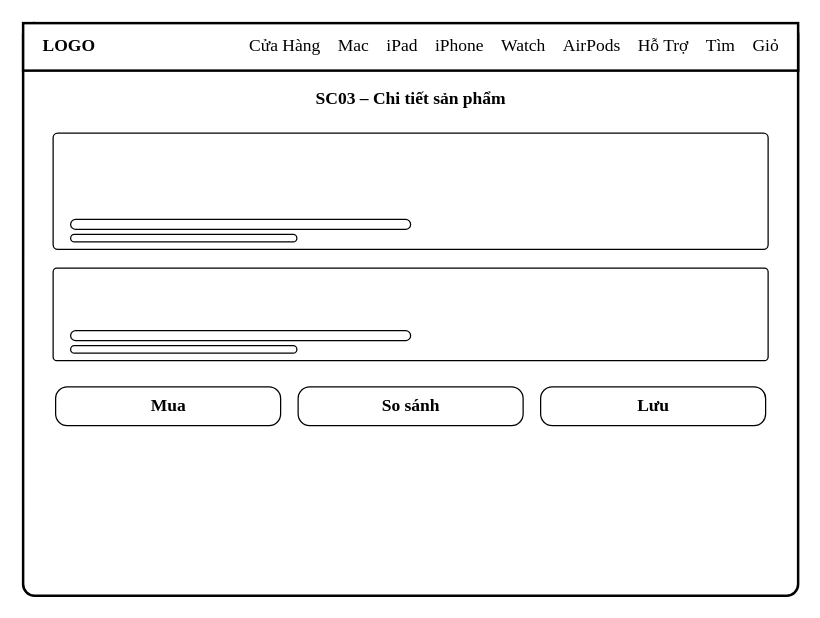
Some shapes in this 820 by 618 pixel diagram are drawn without their labels. The shapes that lost their labels are listed below. From the top down, each one's centre as x and y in pixels, then its label:
(x=410, y=190): Hình sản phẩm + tên + giá từ
(x=410, y=314): Tính năng nổi bật, thông số kỹ thuật
